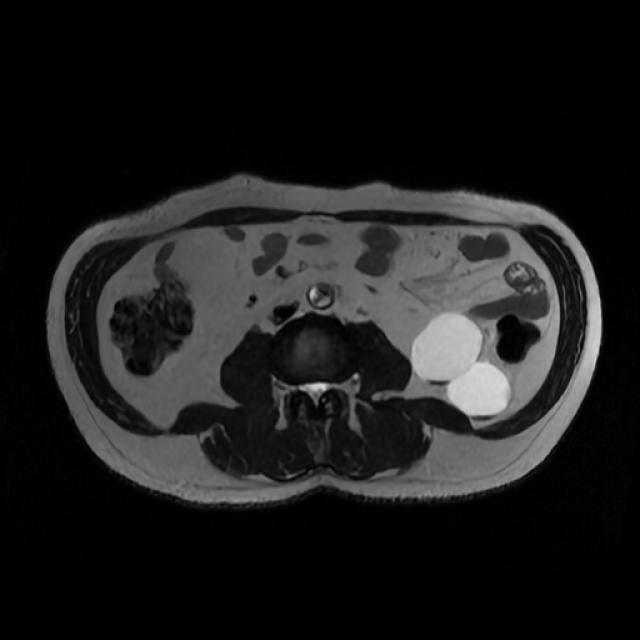sol: (414, 317, 513, 418)
